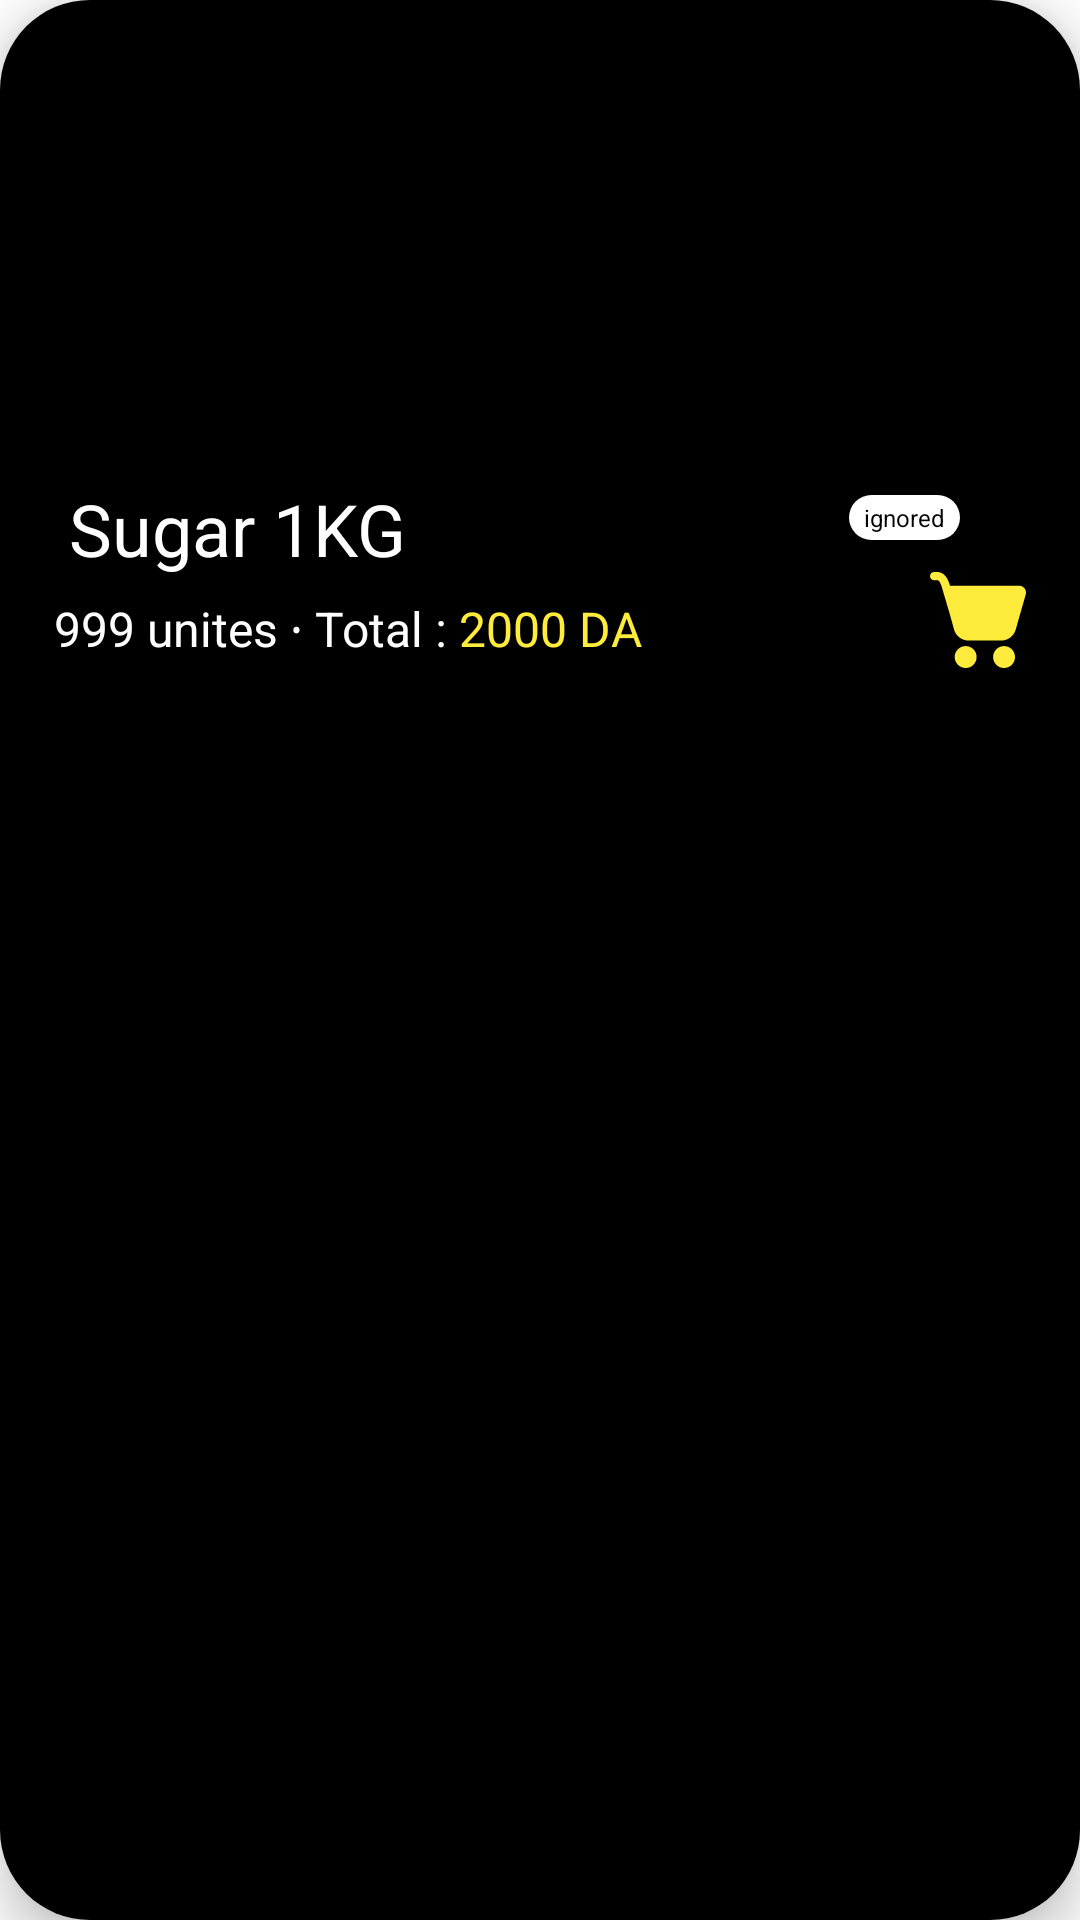

Icon bounding boxes for this 1080w x 1920h phone screenshot, format (x1, y1, x2, y2):
cart vct: (930, 572, 1026, 668)
